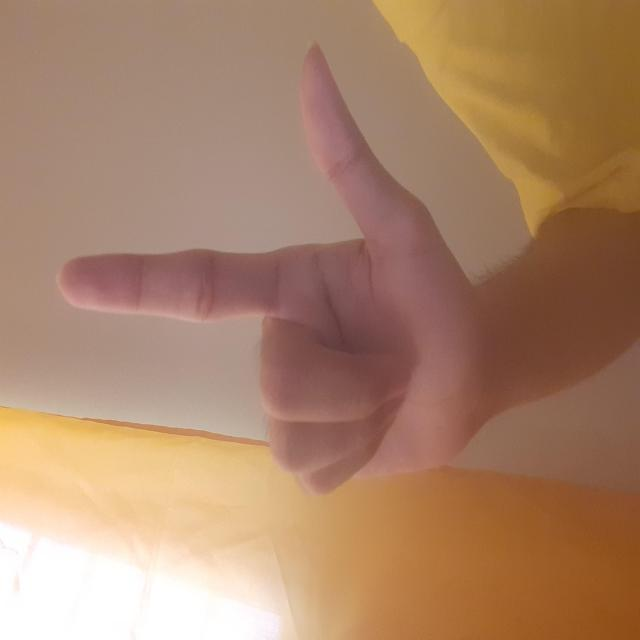L: (143, 58, 597, 474)
